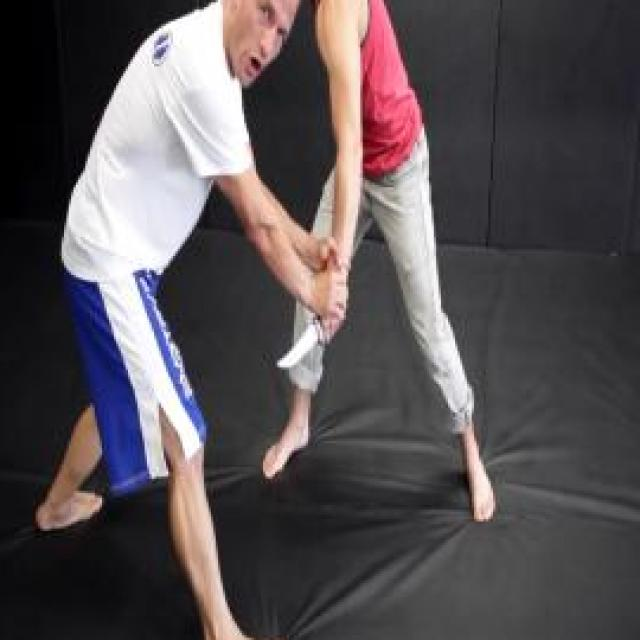knife: (274, 299, 348, 378)
